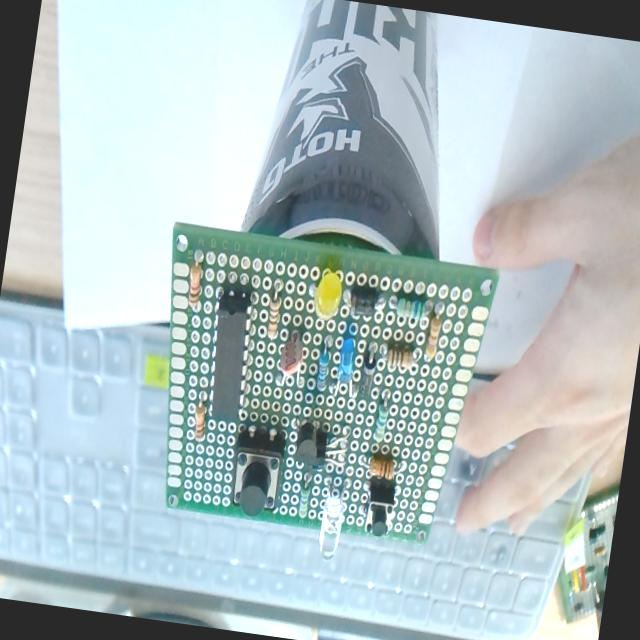IC: (198, 282, 264, 426)
cds: (269, 329, 313, 396)
diode: (340, 282, 390, 325), (356, 339, 380, 406)
led: (222, 420, 292, 522), (312, 471, 352, 566), (302, 264, 348, 330), (330, 332, 366, 406), (359, 482, 399, 540)
resistor: (352, 448, 410, 487), (422, 300, 448, 372), (182, 251, 210, 317), (264, 274, 288, 348), (378, 339, 423, 376), (388, 290, 434, 326), (311, 335, 338, 395), (188, 388, 215, 447), (370, 391, 394, 449), (294, 471, 314, 526)
transistor: (286, 403, 324, 467), (311, 419, 354, 475)
